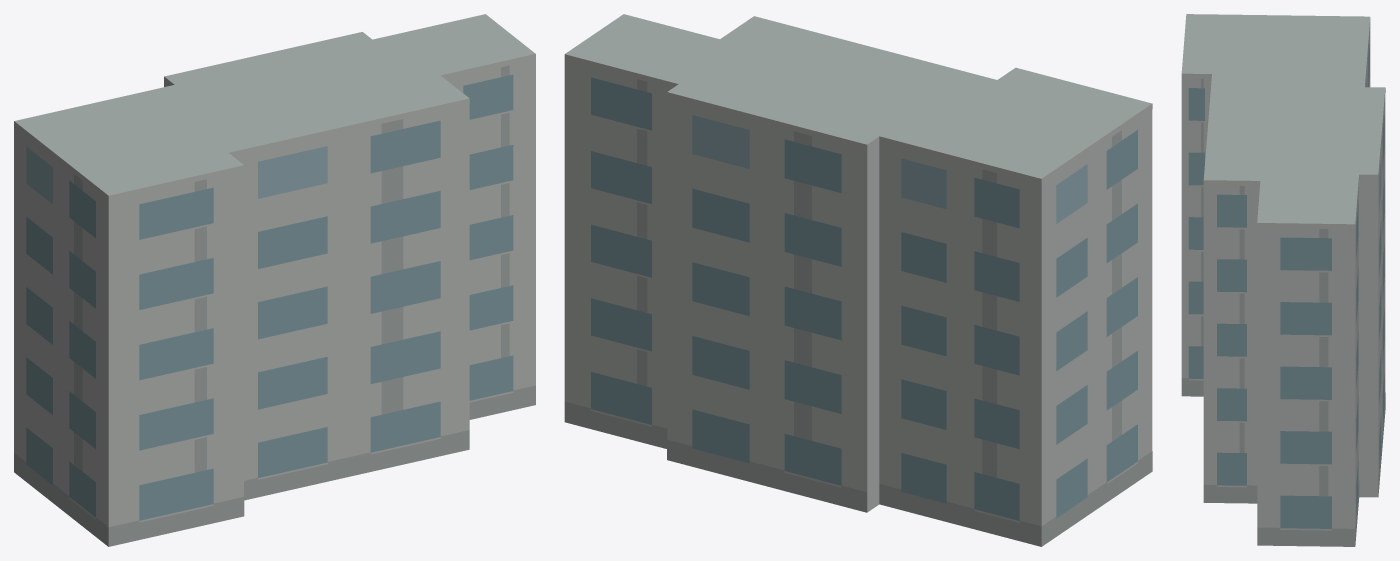
Rendered from residential-66f635a9-85e5-439f-a399-58f09f381bc8.glb.
3 renders of one model, left to right at view 1: azimuth 30°, elevation 25°; view 2: azimuth 150°, elevation 25°; view 3: azimuth 270°, elevation 25°, orthographic. The views are drawn at different scales.
Parts seen in each view (by area): view 1: residential-66f635a9-85e5-439f-a399-58f09f381bc8.tmp; view 2: residential-66f635a9-85e5-439f-a399-58f09f381bc8.tmp; view 3: residential-66f635a9-85e5-439f-a399-58f09f381bc8.tmp.
Part boxes in pixels (x1,y1,x2,y2): residential-66f635a9-85e5-439f-a399-58f09f381bc8.tmp: (14, 14, 535, 546); residential-66f635a9-85e5-439f-a399-58f09f381bc8.tmp: (564, 14, 1152, 546); residential-66f635a9-85e5-439f-a399-58f09f381bc8.tmp: (1181, 14, 1385, 546).
Bounding box in the file's own units: 21.32 × 15.25 × 8.74.
